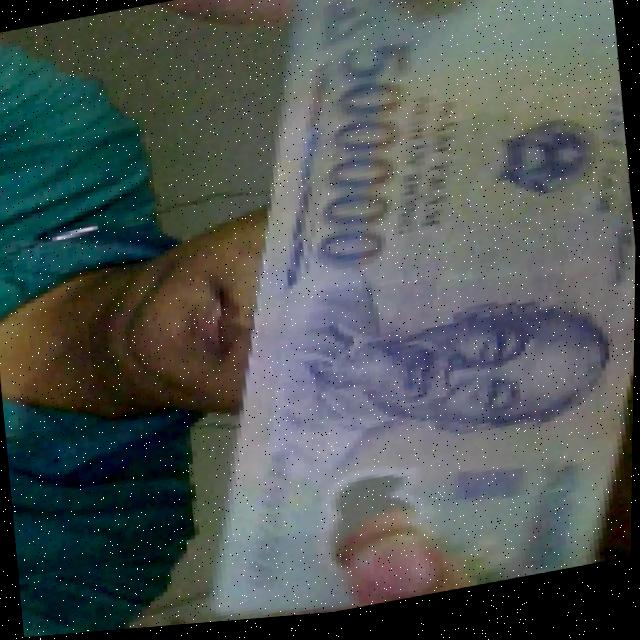500 000 VND: (143, 0, 640, 630)
